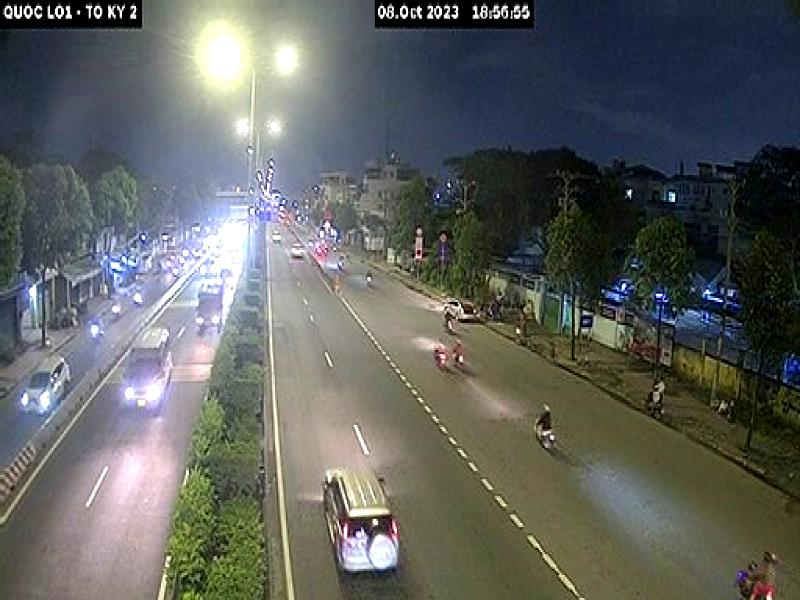car: (318, 450, 406, 589), (115, 314, 184, 433), (15, 349, 79, 413), (439, 289, 474, 332)
